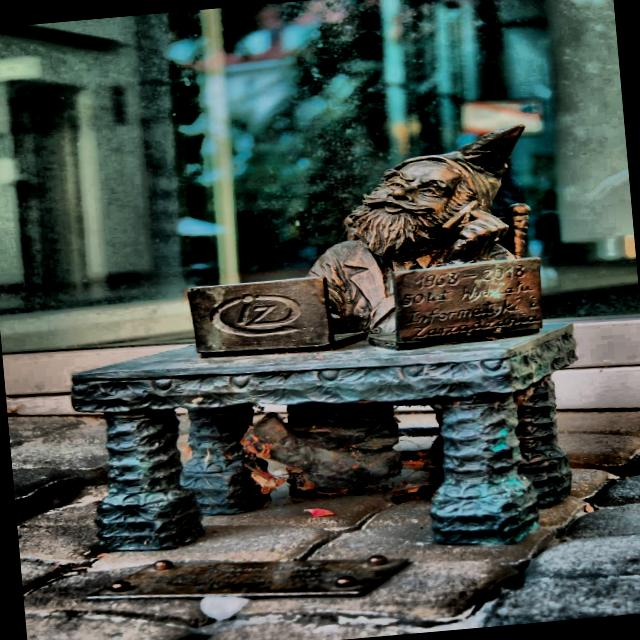WIZek: (72, 126, 576, 550)
